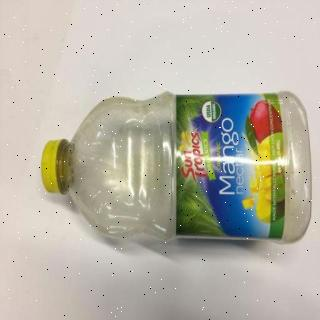Plastic-bottle: (41, 91, 313, 246)
